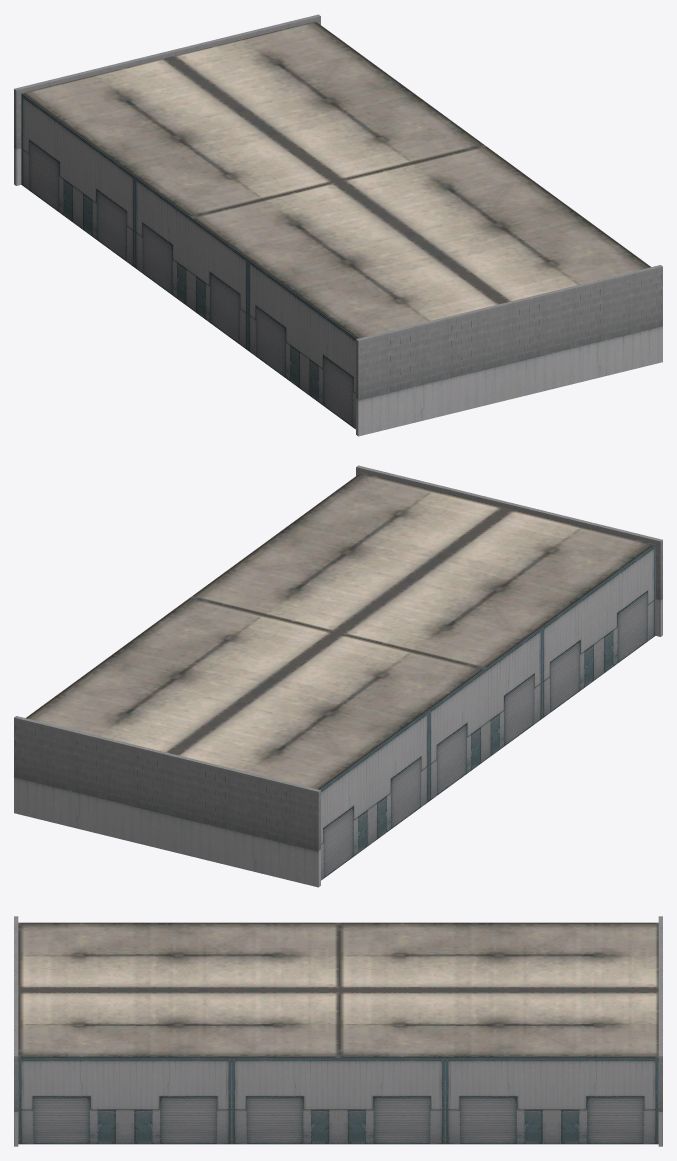
File: vgnhseing111.obj
3 views of the same model, one above another, from view 1: azimuth 30°, elevation 25°; view 2: azimuth 150°, elevation 25°; view 3: azimuth 270°, elevation 25° (orthographic). The views are drawn at different scales.
Parts seen in each view (by area): view 1: vgnhseing111; view 2: vgnhseing111; view 3: vgnhseing111.
Boxes of the visible parts, x1,y1,x2,y2 form: vgnhseing111: (14, 14, 662, 436); vgnhseing111: (14, 465, 662, 887); vgnhseing111: (14, 916, 662, 1146).
Bounding box in the file's own units: 24.9 × 7.47 × 48.78.
Materials: 3 (3 with a texture image).
